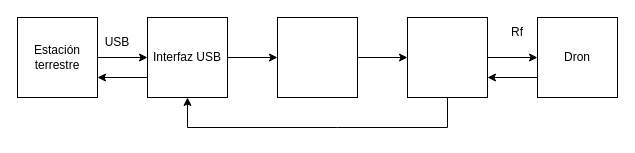
The diagram is 635 pixels wide and 153 high, and some of its shapes have lost their labels. Each missing label, with the centre of its shape:
"Buffer frames" belongs at point (317, 57).
"Lora" belongs at point (447, 57).
